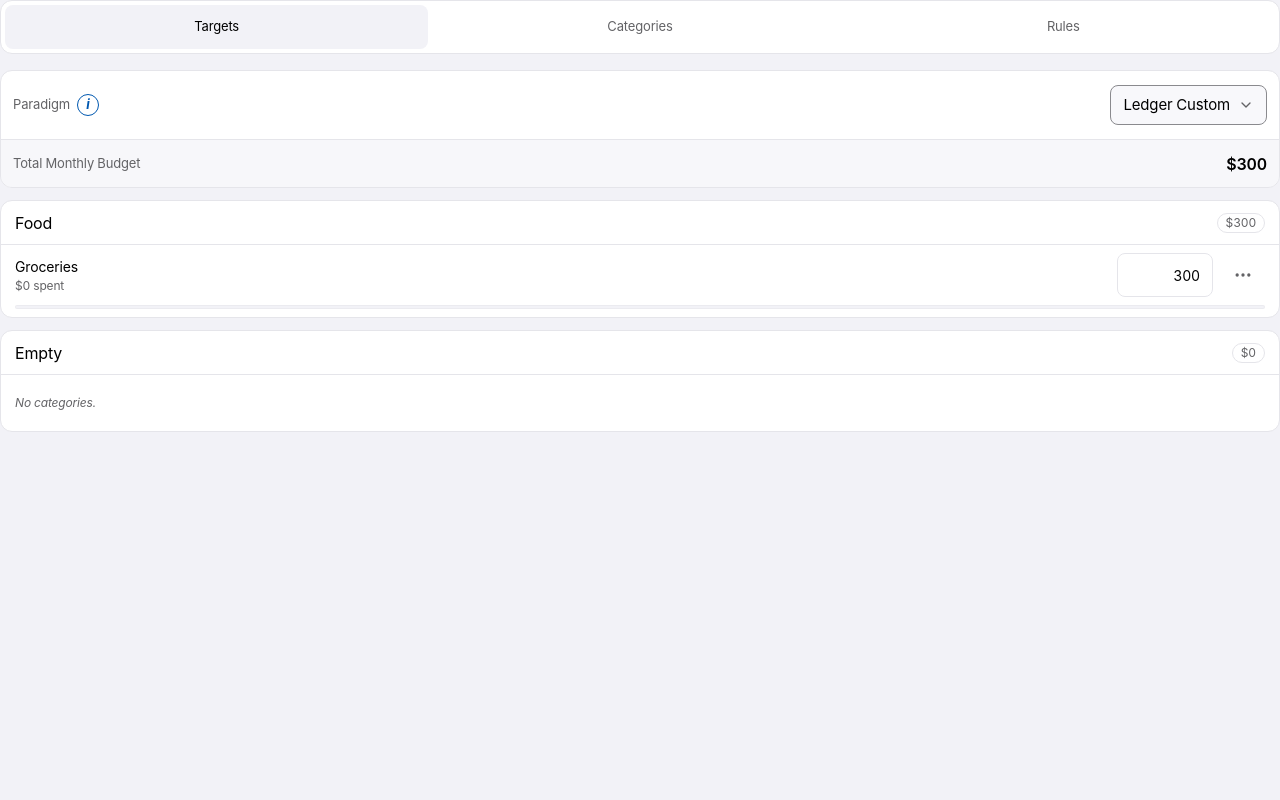
Test: BudgetSetupMobile › asks before removing a category and keeps it on cancel
Later steps or results of the test are not shown.
Click the tab "Categories" at (640, 27), box x1=428 y1=5 x2=852 y2=49
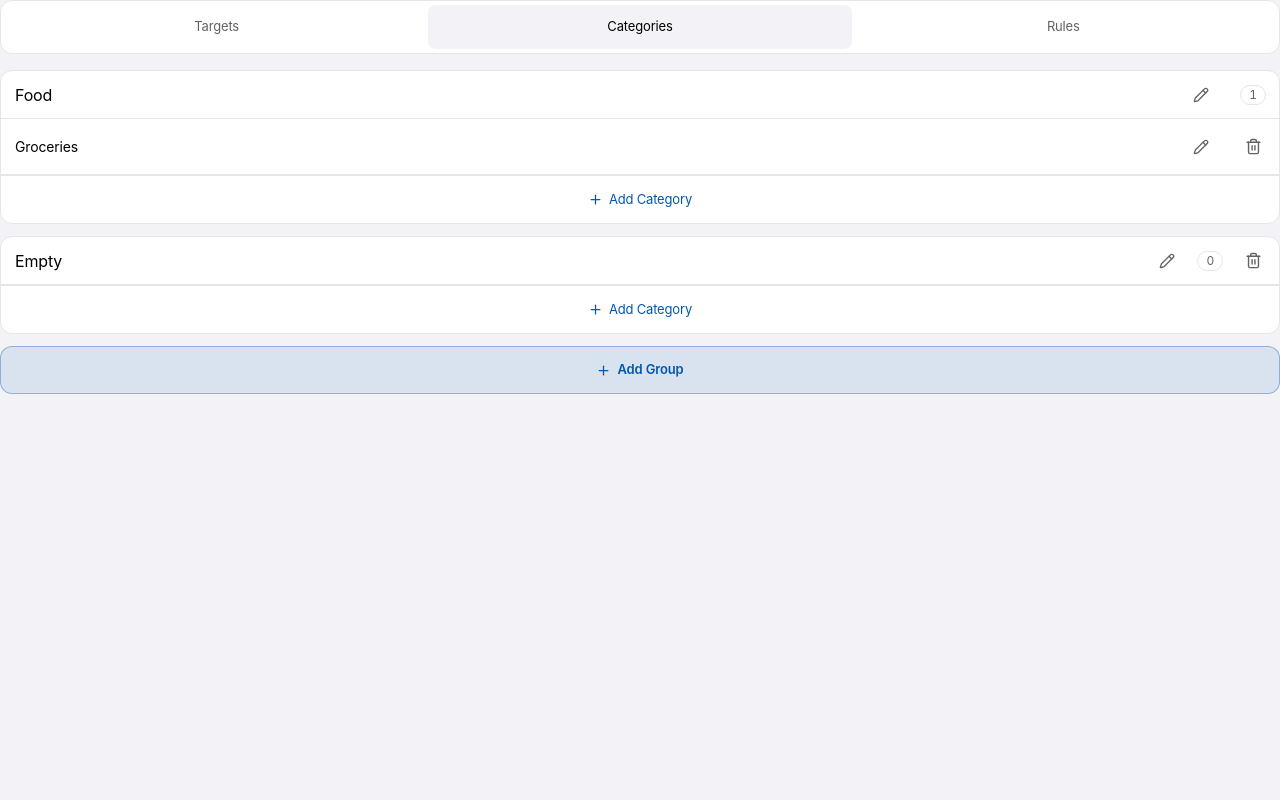
Click the button named "Remove category Groceries" at (1253, 146), box x1=1231 y1=124 x2=1275 y2=168
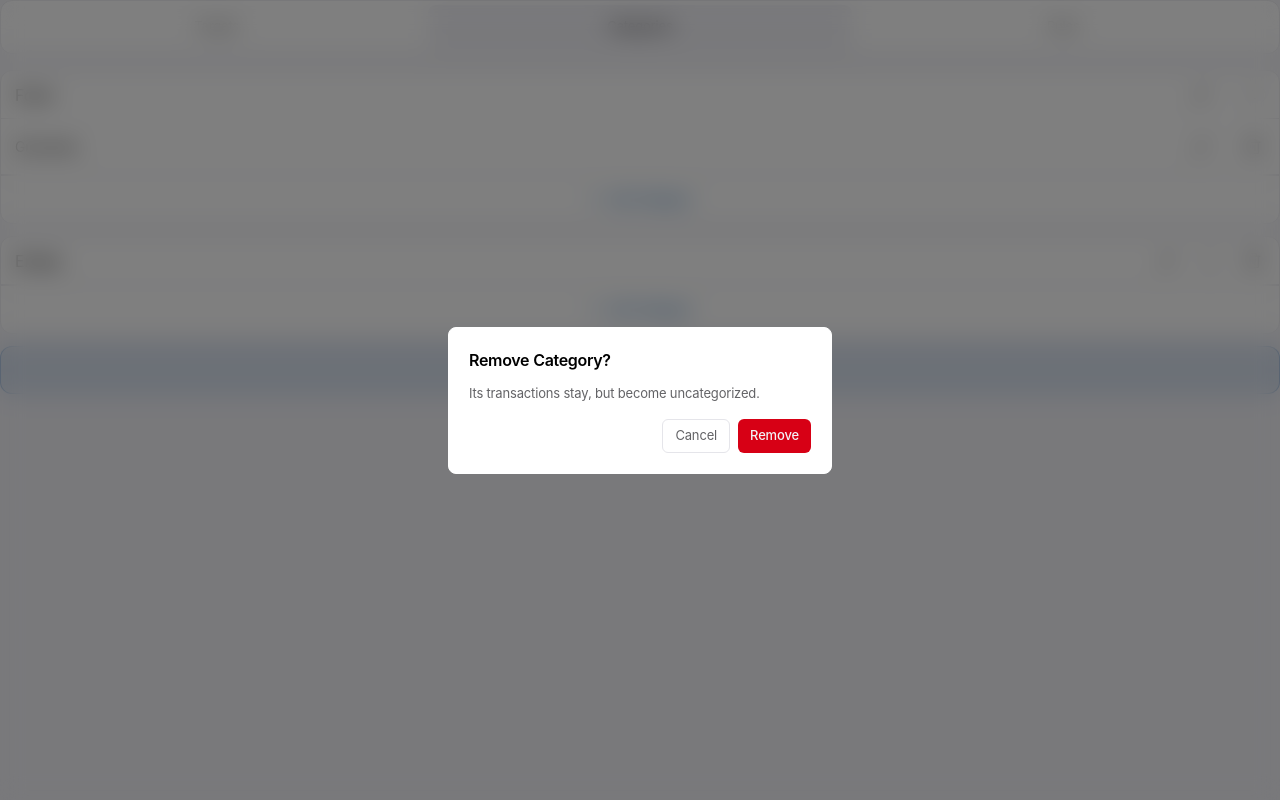
Result: the heading "Remove Category?" is shown at x1=469 y1=350 x2=611 y2=370
Result: the text "Its transactions stay, but become uncategorized." is shown at x1=469 y1=384 x2=760 y2=400
